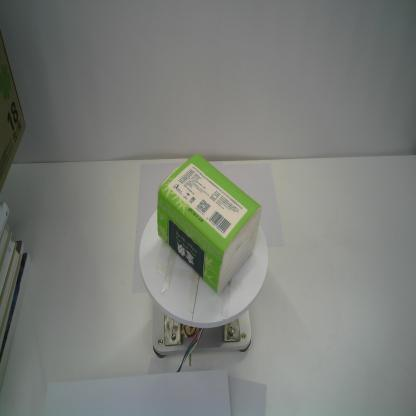Tissue: (156, 152, 262, 296)
